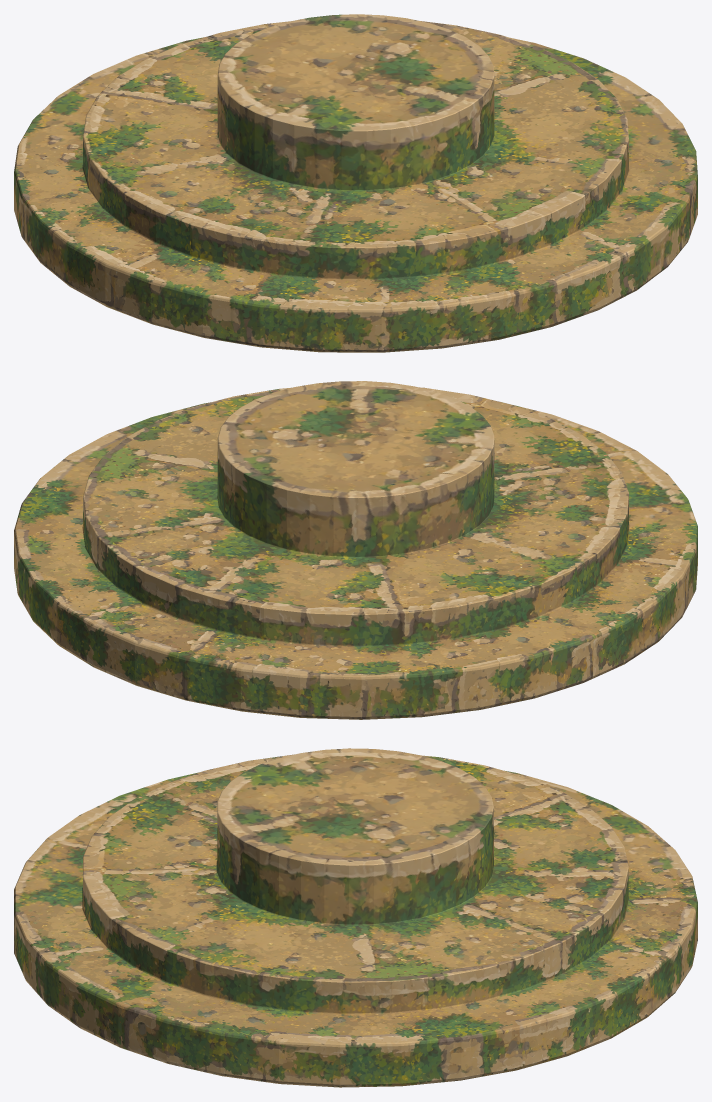
File: groundCircular.glb
3 renders of one model, top to bottom at view 1: azimuth 30°, elevation 25°; view 2: azimuth 150°, elevation 25°; view 3: azimuth 270°, elevation 25°, orthographic.
Visible parts, largest first — view 1: Shrine LP.002_Material.003_0.002, Shrine LP.002_Material.003_0, Shrine LP.002_Material.003_0.001; view 2: Shrine LP.002_Material.003_0.002, Shrine LP.002_Material.003_0, Shrine LP.002_Material.003_0.001; view 3: Shrine LP.002_Material.003_0.002, Shrine LP.002_Material.003_0, Shrine LP.002_Material.003_0.001.
Boxes of the visible parts, box(x1,y1,x2,y2) form: Shrine LP.002_Material.003_0.002: box(82, 21, 629, 279); Shrine LP.002_Material.003_0: box(14, 37, 697, 352); Shrine LP.002_Material.003_0.001: box(217, 14, 494, 190); Shrine LP.002_Material.003_0.002: box(82, 387, 629, 646); Shrine LP.002_Material.003_0: box(14, 402, 697, 719); Shrine LP.002_Material.003_0.001: box(217, 381, 494, 557); Shrine LP.002_Material.003_0.002: box(82, 754, 629, 1014); Shrine LP.002_Material.003_0: box(14, 770, 697, 1087); Shrine LP.002_Material.003_0.001: box(216, 748, 494, 925).
Bounding box in the file's own units: 60.53 × 13.4 × 60.47.
1 material, 1 textured.
